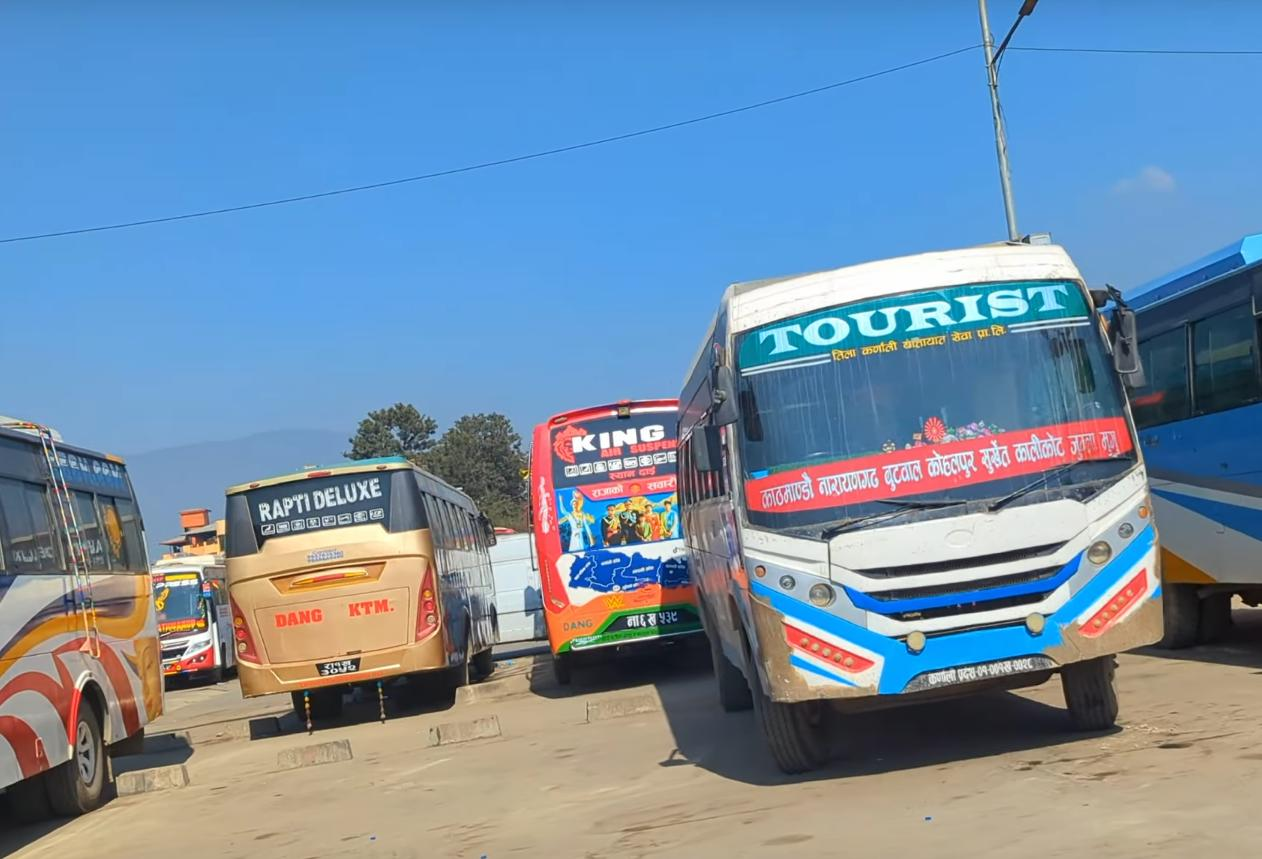bus: (659, 239, 1159, 774), (214, 450, 503, 721)
